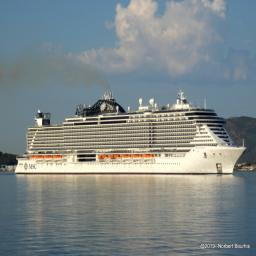cruises: (14, 90, 249, 179)
